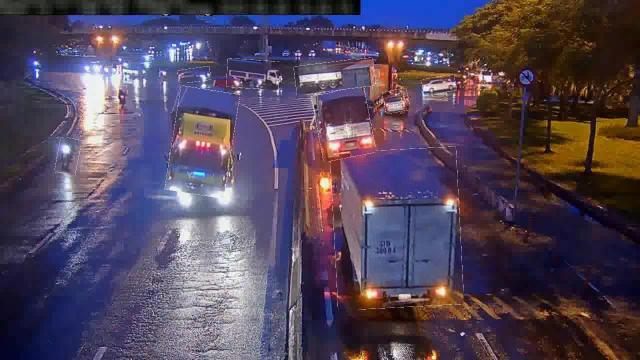Bike: (56, 138, 80, 174), (118, 86, 128, 106)
Car: (383, 89, 409, 113), (422, 76, 456, 94), (178, 68, 210, 82)
Truck: (332, 148, 462, 308), (168, 88, 236, 196), (314, 88, 374, 160), (295, 60, 375, 92), (227, 59, 280, 89)
